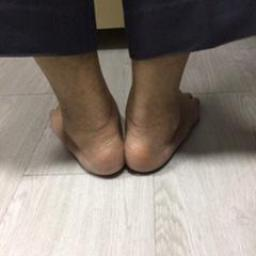Back View -Both Feet-: (30, 59, 210, 193)
